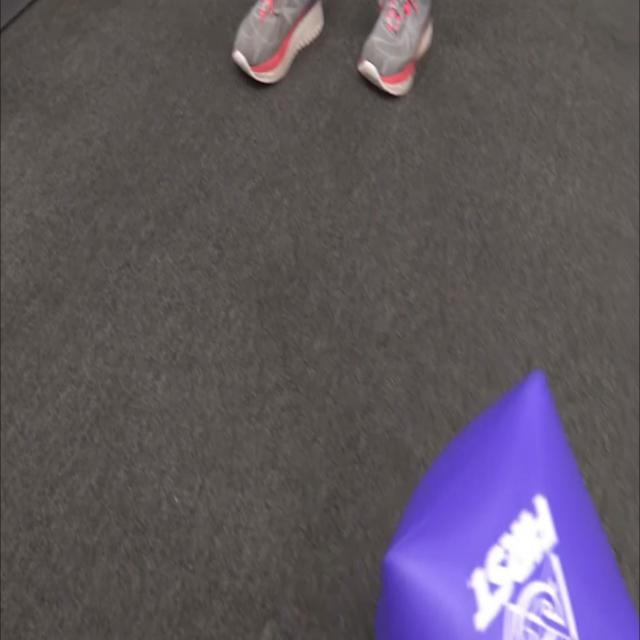frc_cube: (369, 362, 639, 640)
